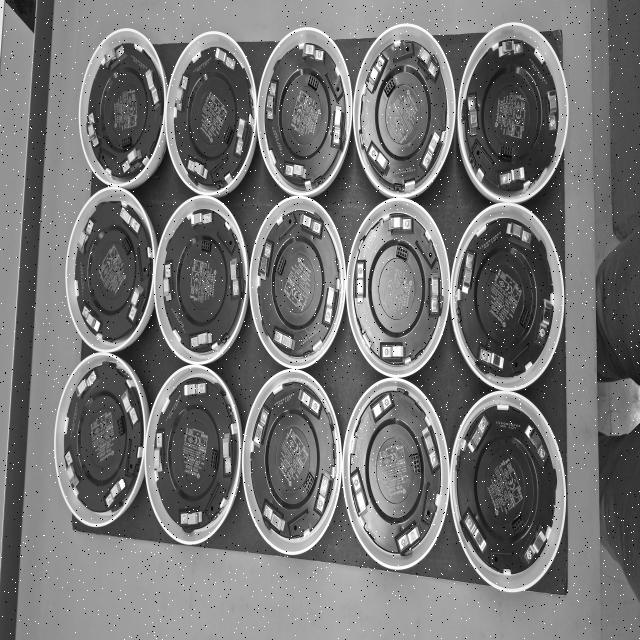yayli: (463, 511, 487, 554), (523, 527, 548, 566), (350, 467, 369, 518), (526, 426, 550, 466), (296, 385, 324, 418), (314, 471, 334, 517), (395, 522, 422, 556), (263, 499, 287, 535), (421, 131, 442, 172), (421, 424, 440, 469), (369, 391, 396, 422), (467, 415, 489, 453), (416, 45, 438, 82), (367, 140, 389, 176), (478, 345, 505, 372), (505, 222, 533, 247), (253, 407, 270, 448), (105, 476, 126, 509), (76, 369, 99, 399), (538, 299, 554, 342), (461, 252, 476, 296), (122, 388, 139, 426), (81, 304, 101, 336), (119, 206, 141, 235), (299, 212, 323, 238), (499, 166, 526, 189), (258, 241, 274, 279), (322, 287, 337, 327), (77, 220, 94, 255), (128, 284, 144, 321), (121, 145, 142, 173), (65, 449, 80, 488), (102, 44, 124, 70), (145, 69, 160, 107), (175, 76, 190, 113), (273, 328, 295, 352), (331, 106, 343, 148), (498, 40, 523, 59), (356, 260, 367, 303), (266, 81, 278, 120), (215, 48, 236, 70), (467, 94, 478, 136), (547, 90, 558, 132), (235, 118, 247, 156), (380, 342, 405, 360), (188, 158, 208, 180), (285, 161, 307, 181), (388, 215, 412, 233), (302, 43, 323, 63), (163, 262, 173, 302), (154, 431, 164, 471), (430, 273, 439, 317), (87, 114, 99, 147), (224, 432, 233, 475), (230, 258, 240, 296), (191, 332, 212, 349), (184, 381, 206, 397), (180, 510, 202, 526), (191, 211, 212, 227), (366, 76, 375, 93), (0, 0, 8, 10)
